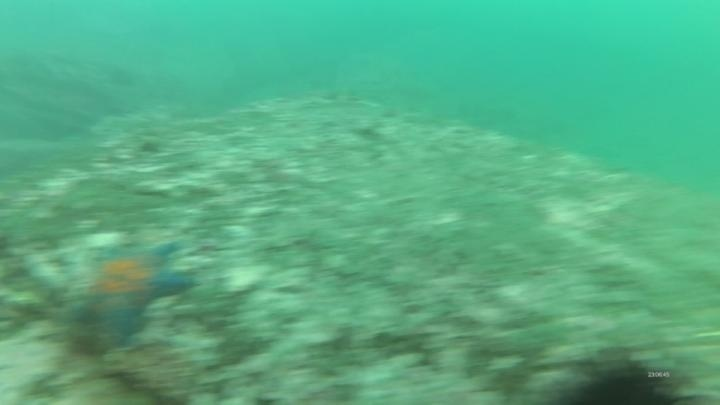echinus: (555, 354, 677, 404)
starfish: (66, 235, 199, 352)
